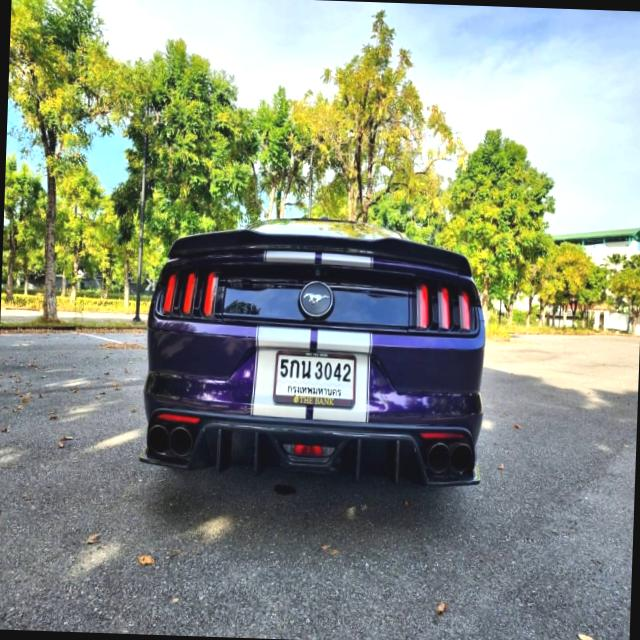license_plate: (270, 344, 356, 411)
